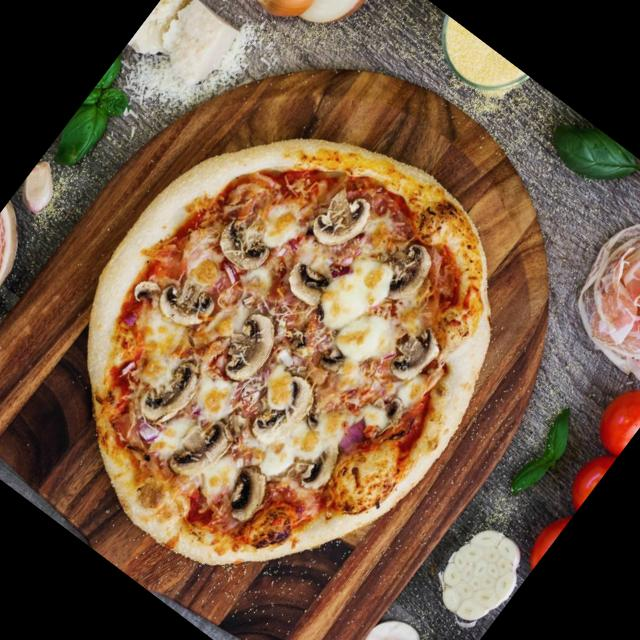mushrooms: (242, 367, 324, 458), (132, 350, 211, 436), (208, 308, 286, 393), (163, 406, 240, 488), (376, 316, 451, 394), (304, 182, 376, 258), (150, 272, 222, 341), (217, 458, 280, 526), (377, 242, 440, 310), (286, 432, 348, 500), (208, 219, 272, 280), (278, 258, 335, 314), (367, 396, 418, 452), (319, 343, 358, 382), (128, 272, 164, 308), (290, 332, 318, 360)
pizza: (85, 139, 491, 570)
